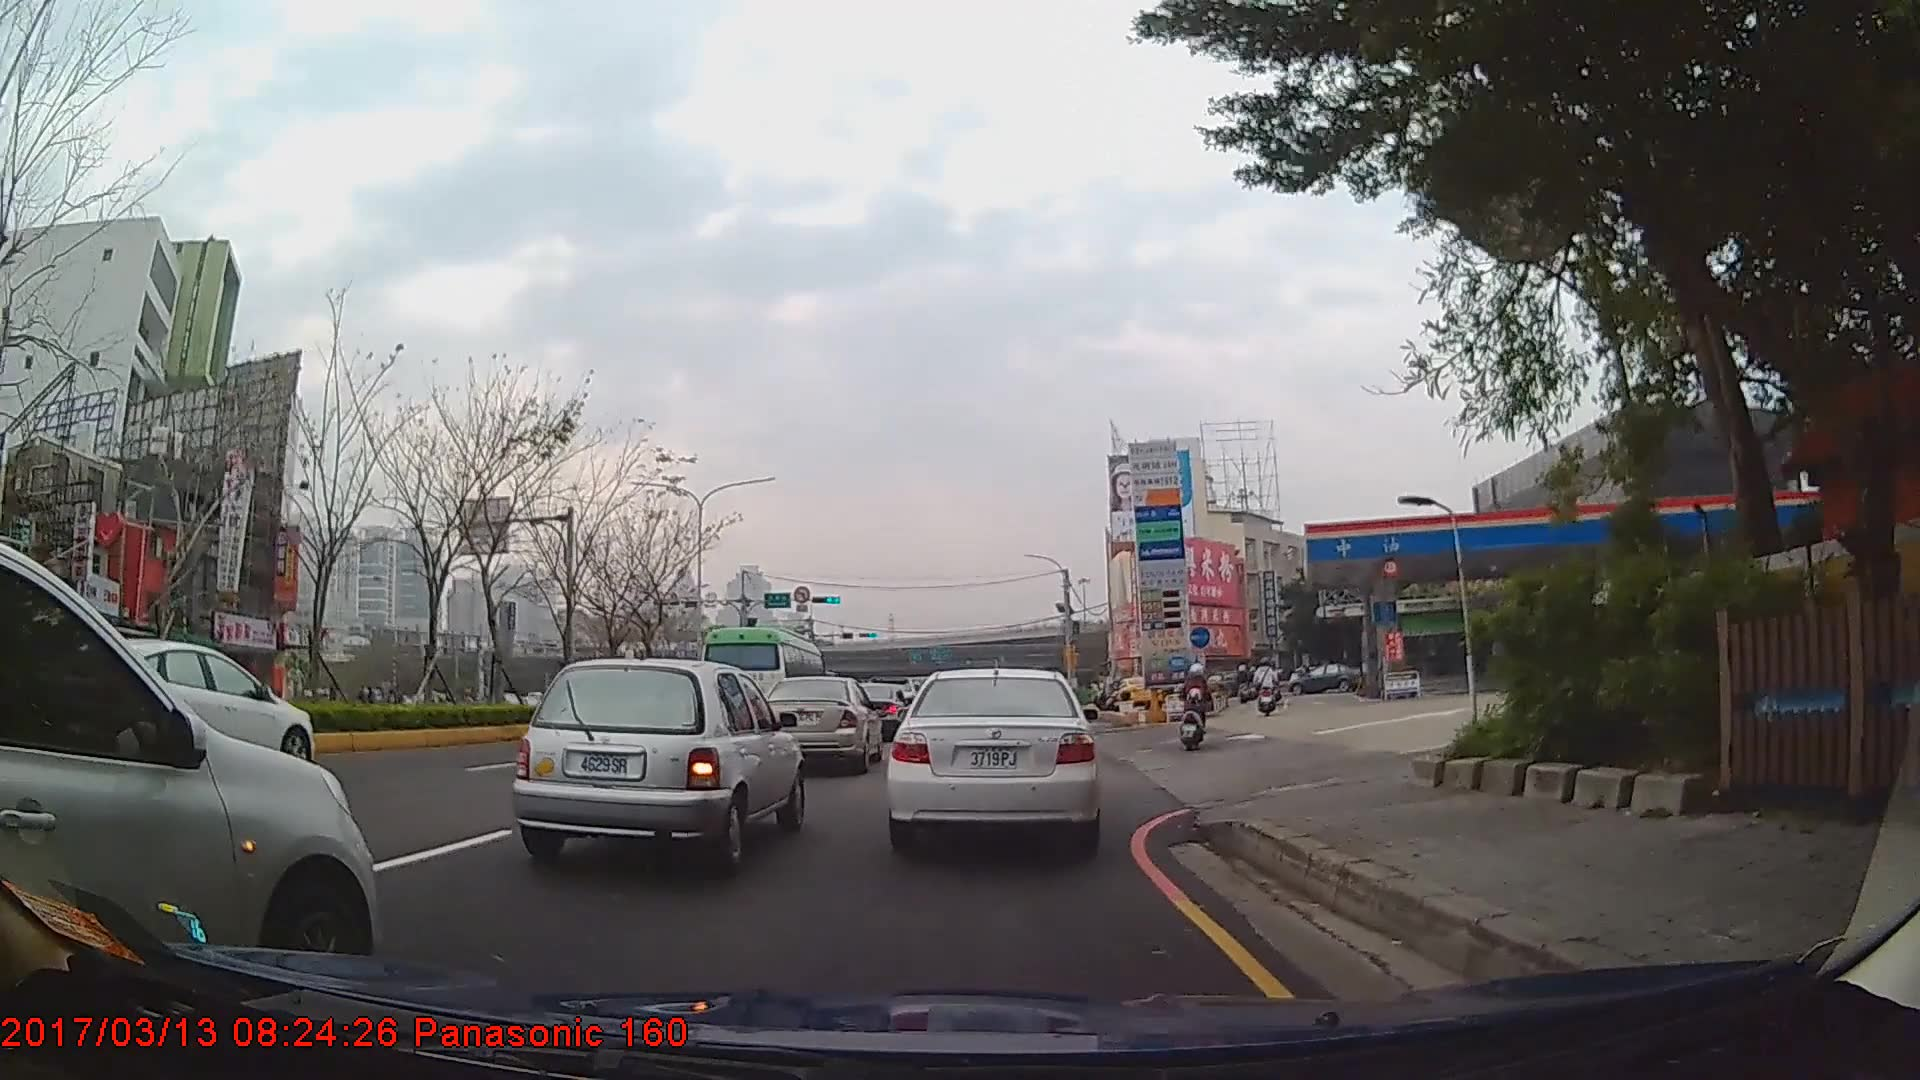rider: (1179, 662, 1213, 753), (1252, 657, 1281, 716)
vehicle: (0, 545, 384, 997), (508, 655, 808, 873), (885, 662, 1100, 853), (74, 636, 313, 767), (699, 625, 825, 728), (754, 675, 882, 771), (1289, 663, 1361, 694)
